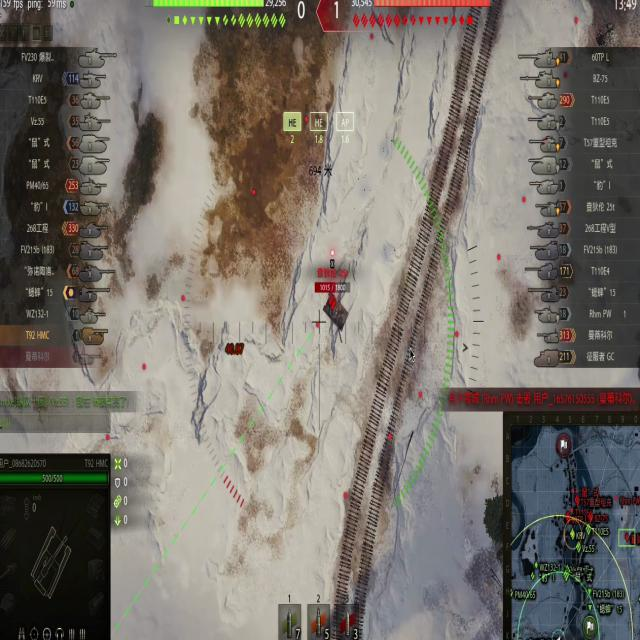tank: (311, 280, 355, 331)
